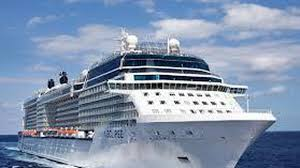tau_dansu: (13, 53, 283, 167)
